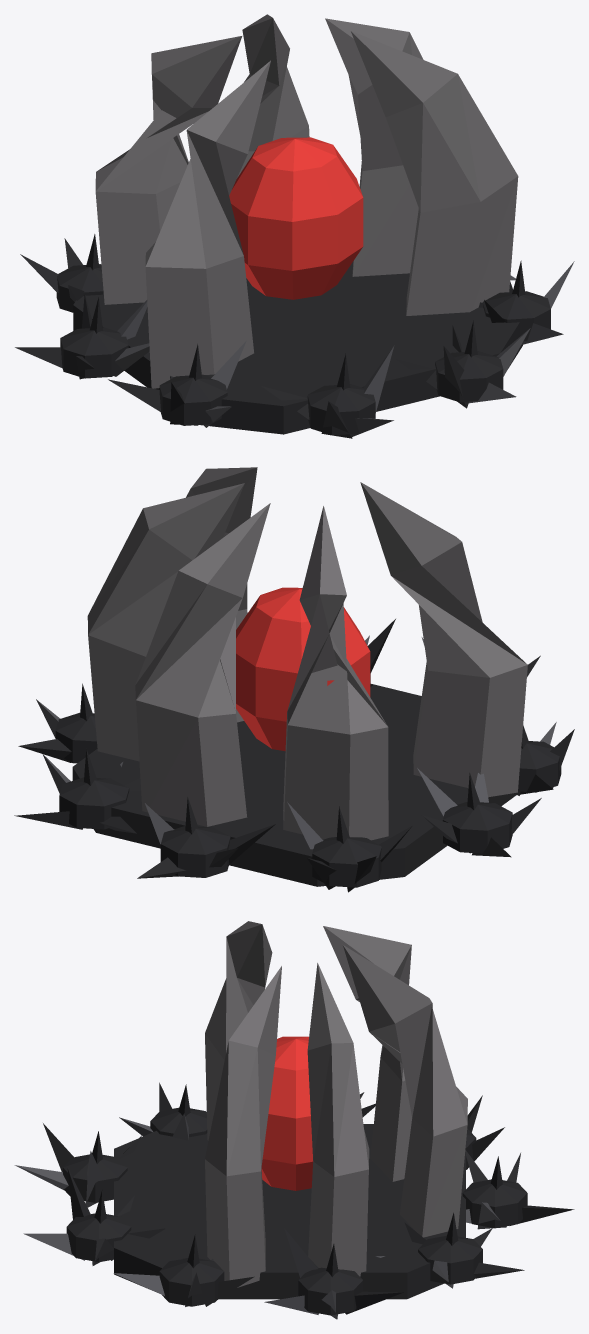
Rendered from void_structure_b.obj.
3 renders of one model, top to bottom at view 1: azimuth 30°, elevation 25°; view 2: azimuth 150°, elevation 25°; view 3: azimuth 270°, elevation 25°, orthographic. The views are drawn at different scales.
Visible parts, largest first — view 1: void_structure_b_63, void_structure_b_72, void_structure_b_70, void_structure_b_64, void_structure_b_68, void_structure_b_65, void_structure_b_67, void_structure_b_28, void_structure_b_35, void_structure_b_42, void_structure_b_49, void_structure_b_56 (+4 smaller); view 2: void_structure_b_67, void_structure_b_70, void_structure_b_68, void_structure_b_63, void_structure_b_65, void_structure_b_64, void_structure_b_28, void_structure_b_14, void_structure_b_7, void_structure_b_21, void_structure_b_72, void_structure_b_35 (+3 smaller); view 3: void_structure_b_63, void_structure_b_67, void_structure_b_72, void_structure_b_65, void_structure_b_68, void_structure_b_64, void_structure_b_70, void_structure_b_56, void_structure_b_0, void_structure_b_14, void_structure_b_7, void_structure_b_49 (+9 smaller).
Part boxes in pixels (<box>): void_structure_b_63: <box>73,262,522,434</box>; void_structure_b_72: <box>351,31,518,315</box>; void_structure_b_70: <box>145,60,270,388</box>; void_structure_b_64: <box>229,137,363,299</box>; void_structure_b_68: <box>95,36,242,304</box>; void_structure_b_65: <box>325,18,423,276</box>; void_structure_b_67: <box>237,14,309,177</box>; void_structure_b_28: <box>60,327,128,378</box>; void_structure_b_35: <box>159,374,227,425</box>; void_structure_b_42: <box>307,384,375,435</box>; void_structure_b_49: <box>435,351,503,402</box>; void_structure_b_56: <box>482,291,550,341</box>; void_structure_b_67: <box>135,503,270,826</box>; void_structure_b_70: <box>360,482,527,797</box>; void_structure_b_68: <box>283,506,388,840</box>; void_structure_b_63: <box>72,683,516,886</box>; void_structure_b_65: <box>87,483,244,761</box>; void_structure_b_64: <box>236,587,370,751</box>; void_structure_b_28: <box>443,801,512,853</box>; void_structure_b_14: <box>160,826,230,877</box>; void_structure_b_7: <box>59,777,129,829</box>; void_structure_b_21: <box>312,837,381,887</box>; void_structure_b_72: <box>186,467,257,722</box>; void_structure_b_35: <box>518,741,561,792</box>; void_structure_b_63: <box>114,1124,465,1299</box>; void_structure_b_67: <box>343,945,467,1237</box>; void_structure_b_72: <box>205,966,281,1287</box>; void_structure_b_65: <box>307,963,369,1276</box>; void_structure_b_68: <box>323,926,412,1181</box>; void_structure_b_64: <box>261,1036,313,1190</box>; void_structure_b_70: <box>205,921,272,1140</box>; void_structure_b_56: <box>159,1258,224,1306</box>; void_structure_b_0: <box>298,1267,362,1315</box>; void_structure_b_14: <box>462,1179,527,1228</box>; void_structure_b_7: <box>418,1235,482,1284</box>; void_structure_b_49: <box>66,1213,131,1262</box>.
Size of the model in its own units: 4.46 by 2.65 by 4.78.
